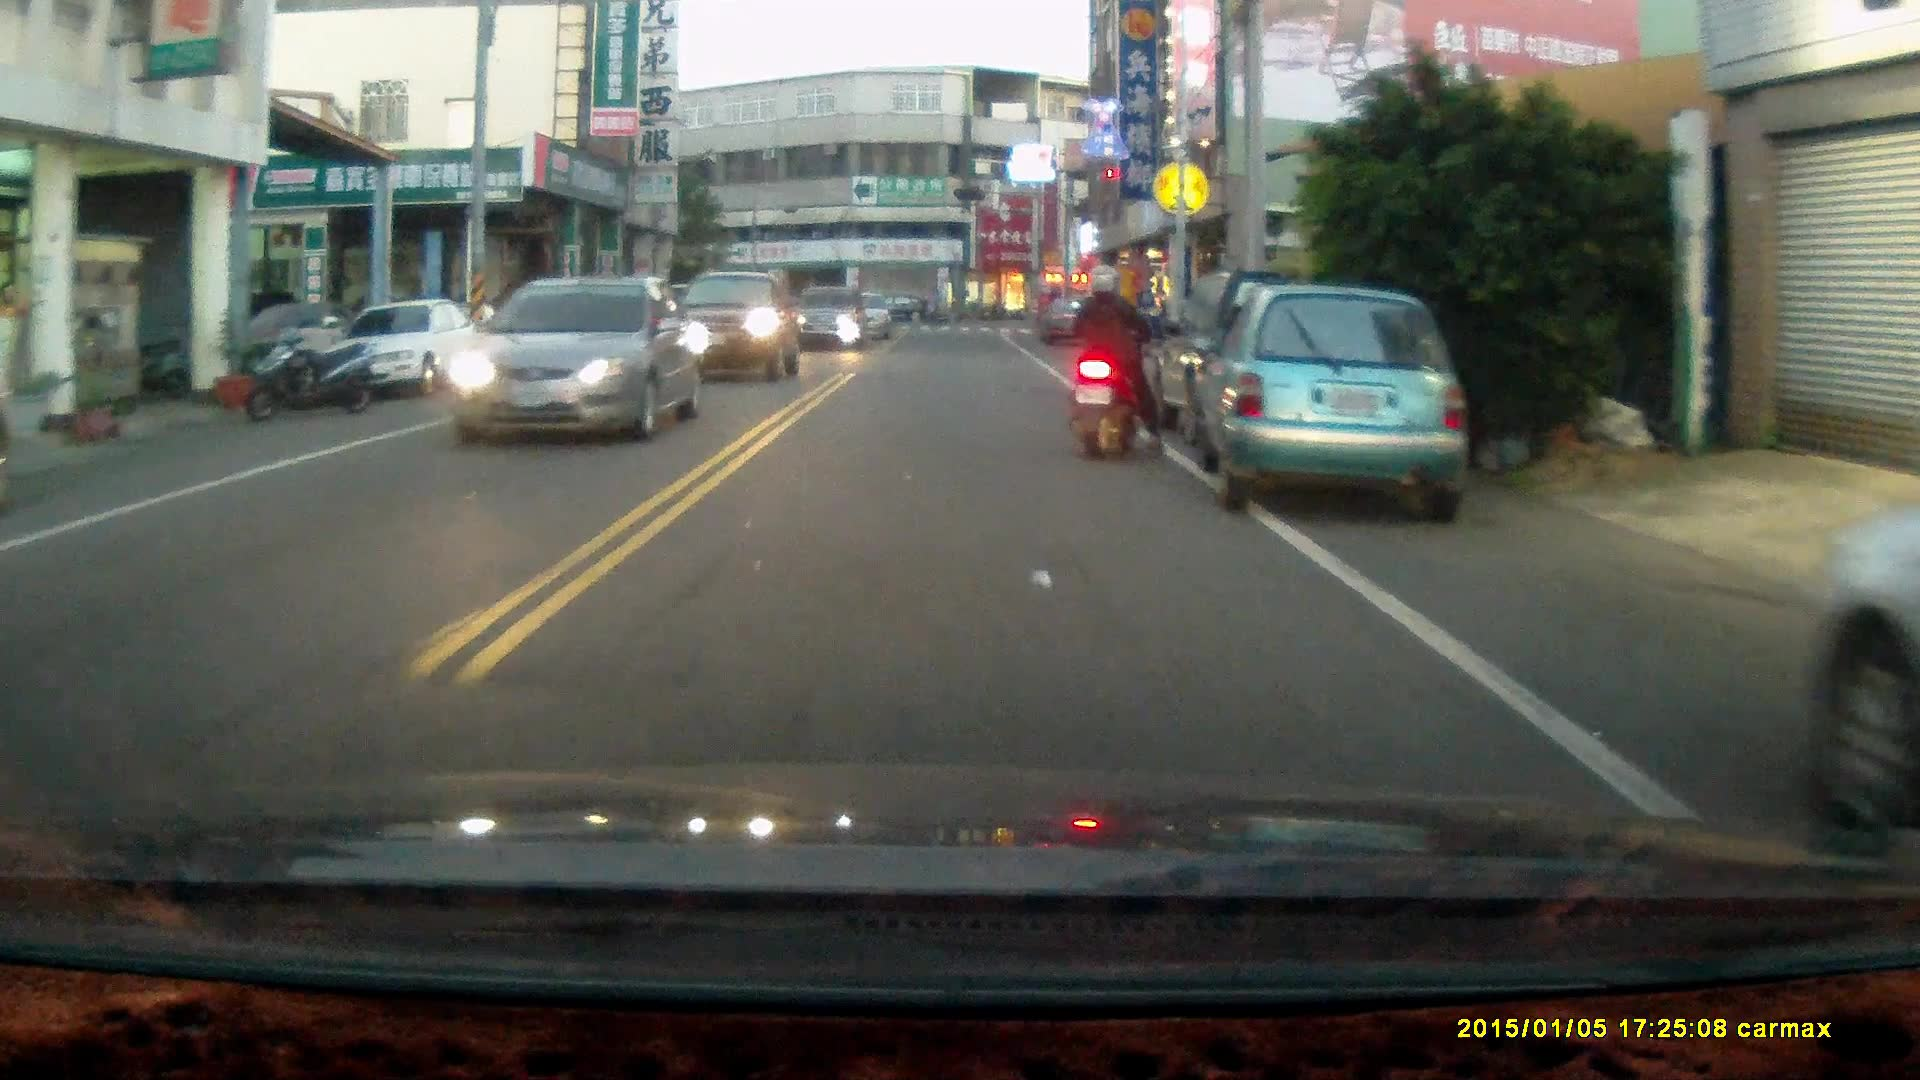rider: (1067, 263, 1167, 460)
vehicle: (1196, 284, 1482, 523), (448, 281, 704, 447), (314, 299, 505, 397), (670, 271, 809, 386), (784, 284, 869, 349)
